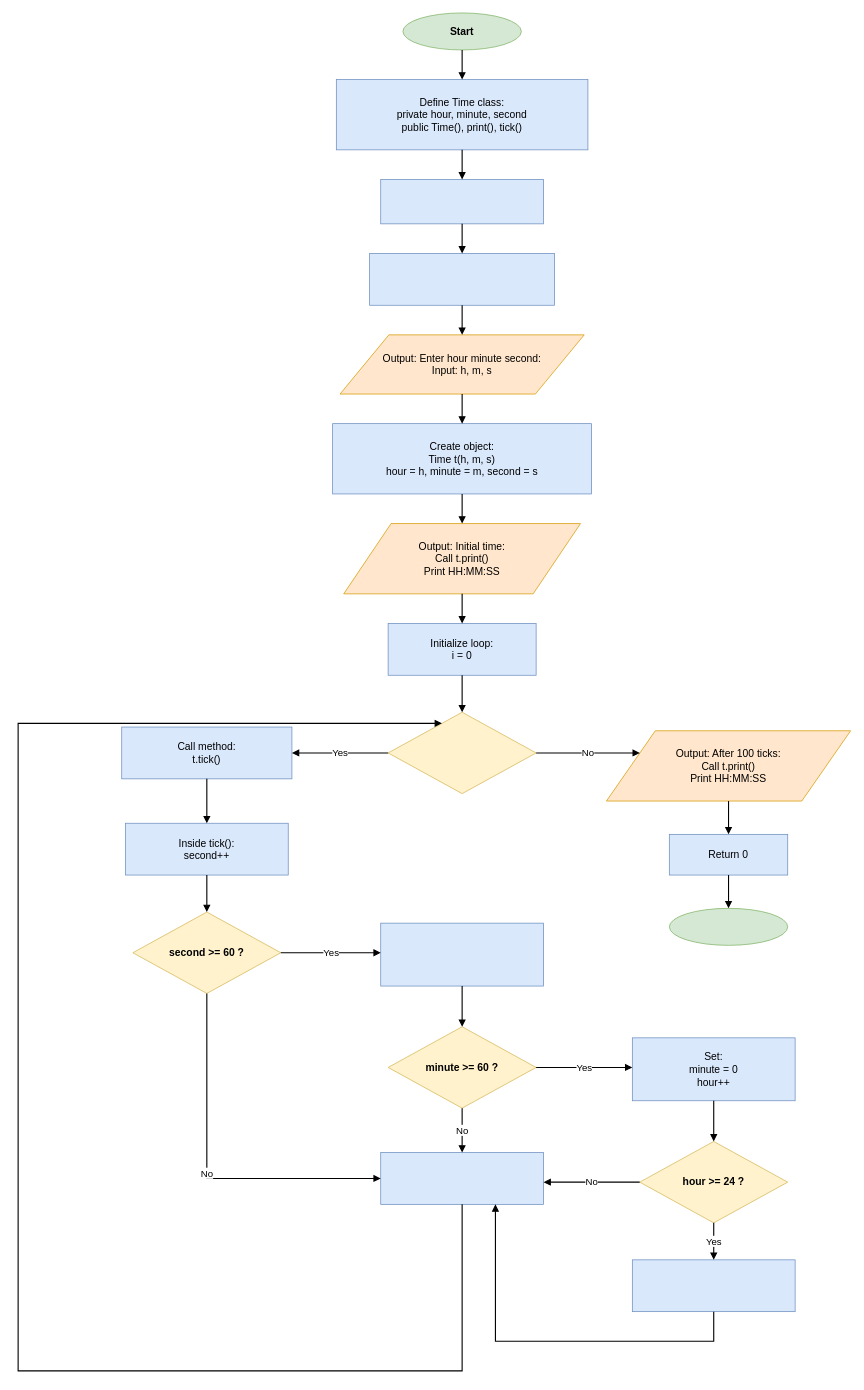
This 864x1390 diagram has some shape labels left out. Each missing label, with the box of its shape:
Declare variables: int h, m, s: (369, 253, 555, 305)
End: (669, 908, 788, 945)
Enter main() function: (380, 179, 544, 224)
i < 100 ?: (387, 712, 536, 794)
Set: hour = 0: (632, 1259, 795, 1312)
Set: second = 0 minute++: (380, 922, 544, 986)
Update loop: i++: (380, 1152, 544, 1204)
